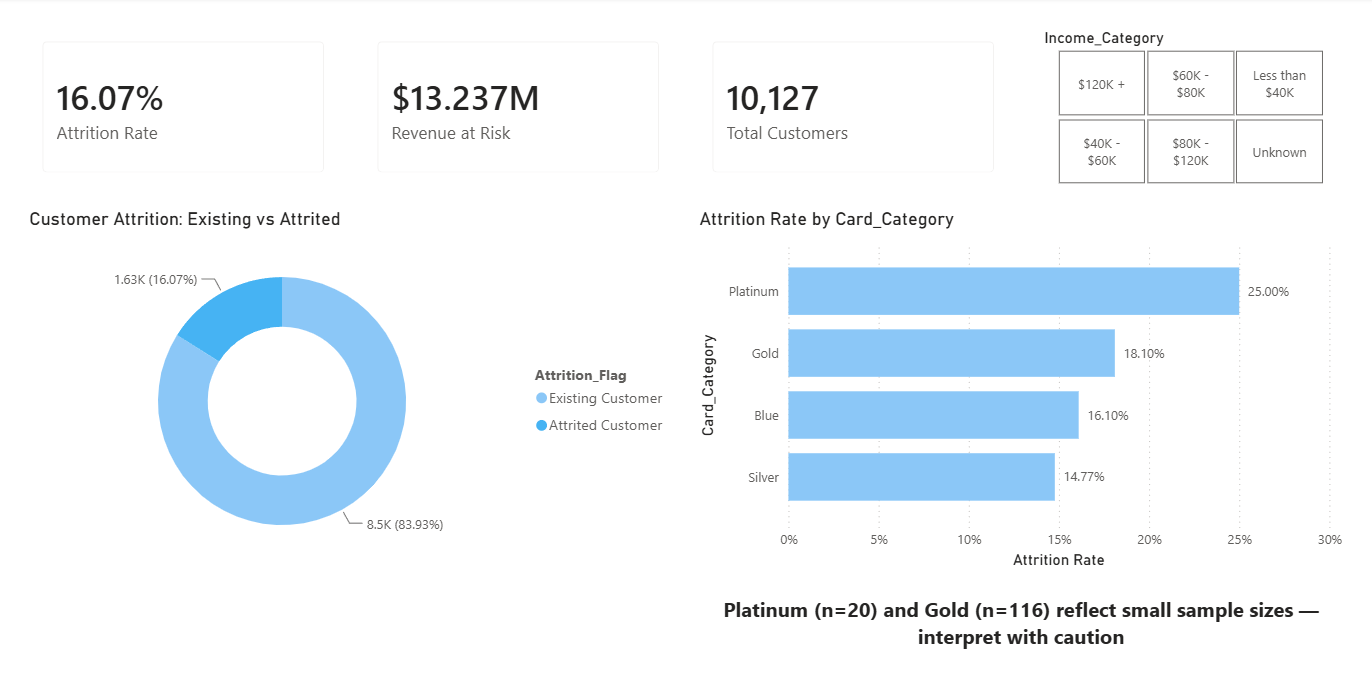

This screenshot's page, from the dashboard's own definition file:
{"tool":"powerbi","page":{"name":"Executive Overview","canvas":[1280,720],"ordinal":0},"visuals":[{"type":"cardVisual","fields":{"Data":["bankchurners_cleaned.Attrition Rate"]},"box":[24,24,296,156],"z":0},{"type":"cardVisual","fields":{"Data":["bankchurners_cleaned.Revenue at Risk"]},"box":[336,24,296,156],"z":1000},{"type":"cardVisual","fields":{"Data":["bankchurners_cleaned.Total Customers Display"]},"box":[648,24,296,156],"z":2000},{"type":"donutChart","title":"Customer Attrition: Existing vs Attrited","fields":{"Category":["bankchurners_cleaned.Attrition_Flag"],"Y":["CountNonNull(bankchurners_cleaned.Customer_Age)"]},"box":[24,196,608,340],"z":3000},{"type":"clusteredBarChart","fields":{"Category":["bankchurners_cleaned.Card_Category"],"Y":["bankchurners_cleaned.Attrition Rate"]},"box":[648,196,608,340],"z":4000},{"type":"slicer","fields":{"Values":["bankchurners_cleaned.Income_Category"]},"box":[960,24,296,156],"z":5000},{"type":"textbox","box":[648,552,608,144],"z":7000}]}

Visuals, with their boxes on the page's 1280x720 design canvas (x1, y1, x2, y2). These are canvas units, not pixel positions in the 1372x682 screenshot, which may show the page scaled, cropped or inside an application window:
cardVisual - bankchurners_cleaned.Attrition Rate: 24:24:320:180
cardVisual - bankchurners_cleaned.Revenue at Risk: 336:24:632:180
cardVisual - bankchurners_cleaned.Total Customers Display: 648:24:944:180
"Customer Attrition: Existing vs Attrited" donutChart: 24:196:632:536
clusteredBarChart - bankchurners_cleaned.Card_Category x bankchurners_cleaned.Attrition Rate: 648:196:1256:536
slicer - bankchurners_cleaned.Income_Category: 960:24:1256:180
textbox: 648:552:1256:696
